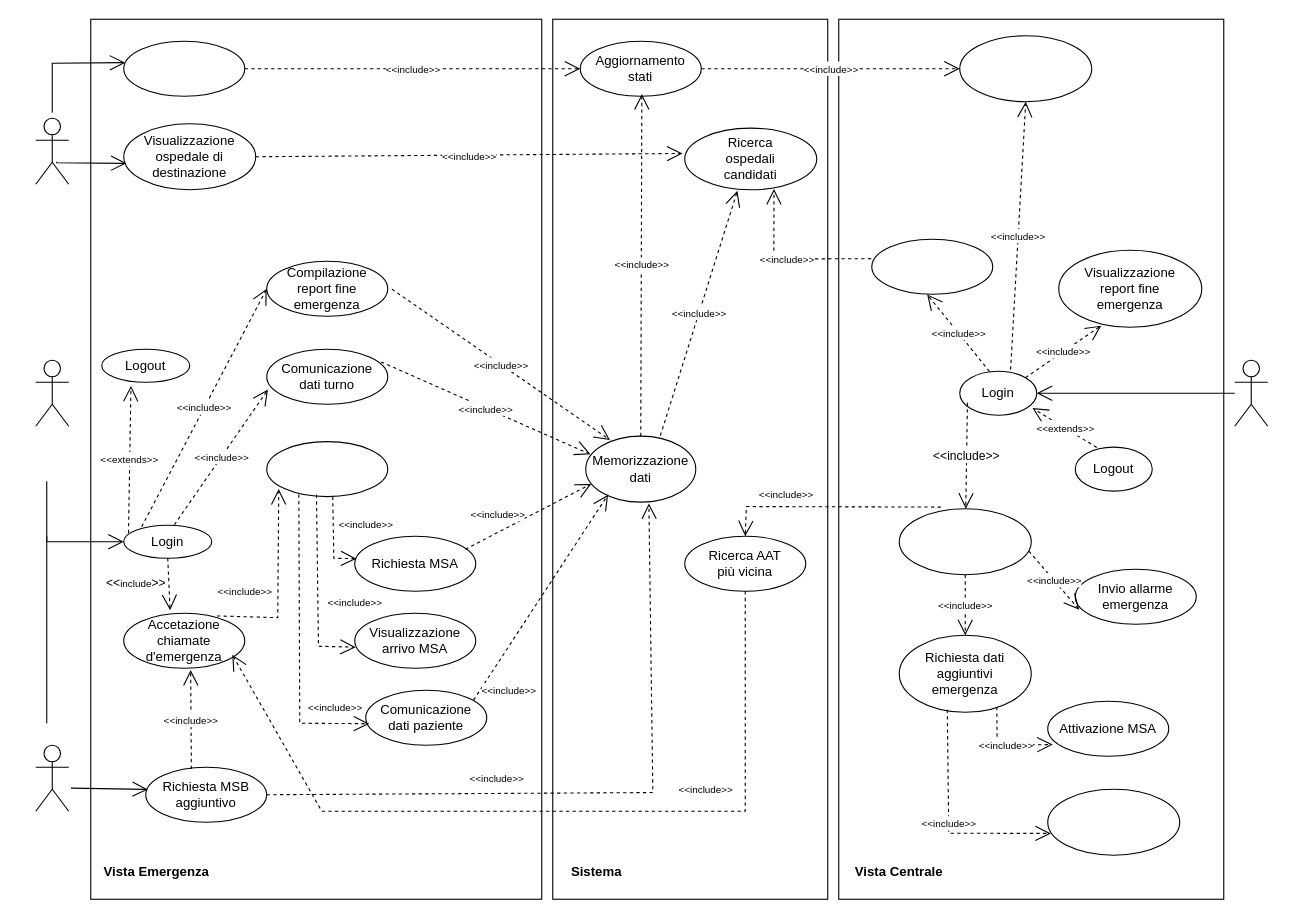
This 1299x919 diagram has some shape labels left out. Here are the shapes that lost their labels. From the top down, the centre of each, then its label:
the point at 184,68: Comunicazione stati
the point at 1025,68: Visualizzaione stato mezzi SOREU
the point at 52,150: Operatore Ambulanza
the point at 932,266: Scelta ospedale di destinazione
the point at 52,392: Capo Servizio
the point at 1251,392: Operatore SOREU 118
the point at 327,469: Comunicazione con centrale
the point at 964,541: Compilazione modulo emergenza
the point at 52,777: Operatore MSA
the point at 1113,821: Comunicazione con capo servizio
